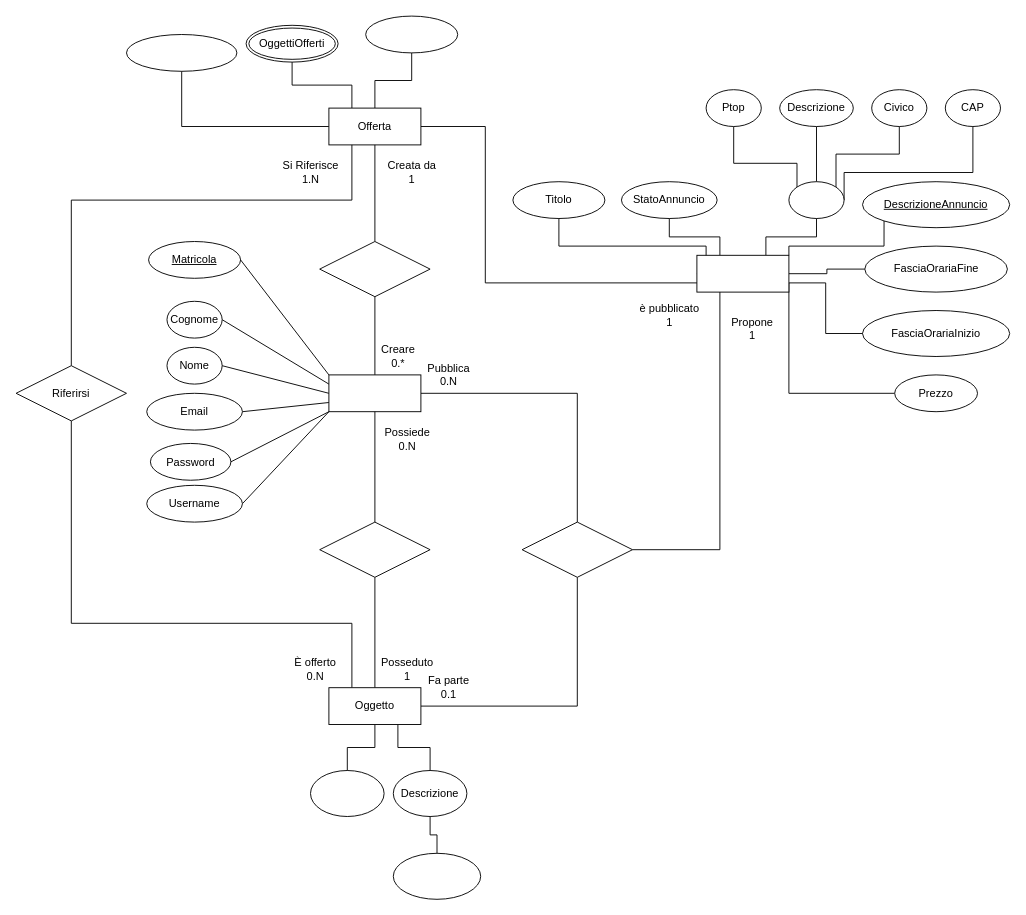
The diagram is 1026 pixels wide and 915 high, and some of its shapes have lost their labels. Here are the shapes that lost their labels. From the top down, the centre of each, then its label:
pixel 181 52: StatoOfferta
pixel 411 34: PrezzoOfferto
pixel 816 199: Sede
pixel 374 269: Crea
pixel 742 273: Annuncio
pixel 374 393: Studente
pixel 374 549: Possedere
pixel 576 549: Pubblicare
pixel 347 793: Categoria
pixel 436 875: NomeCategoria
